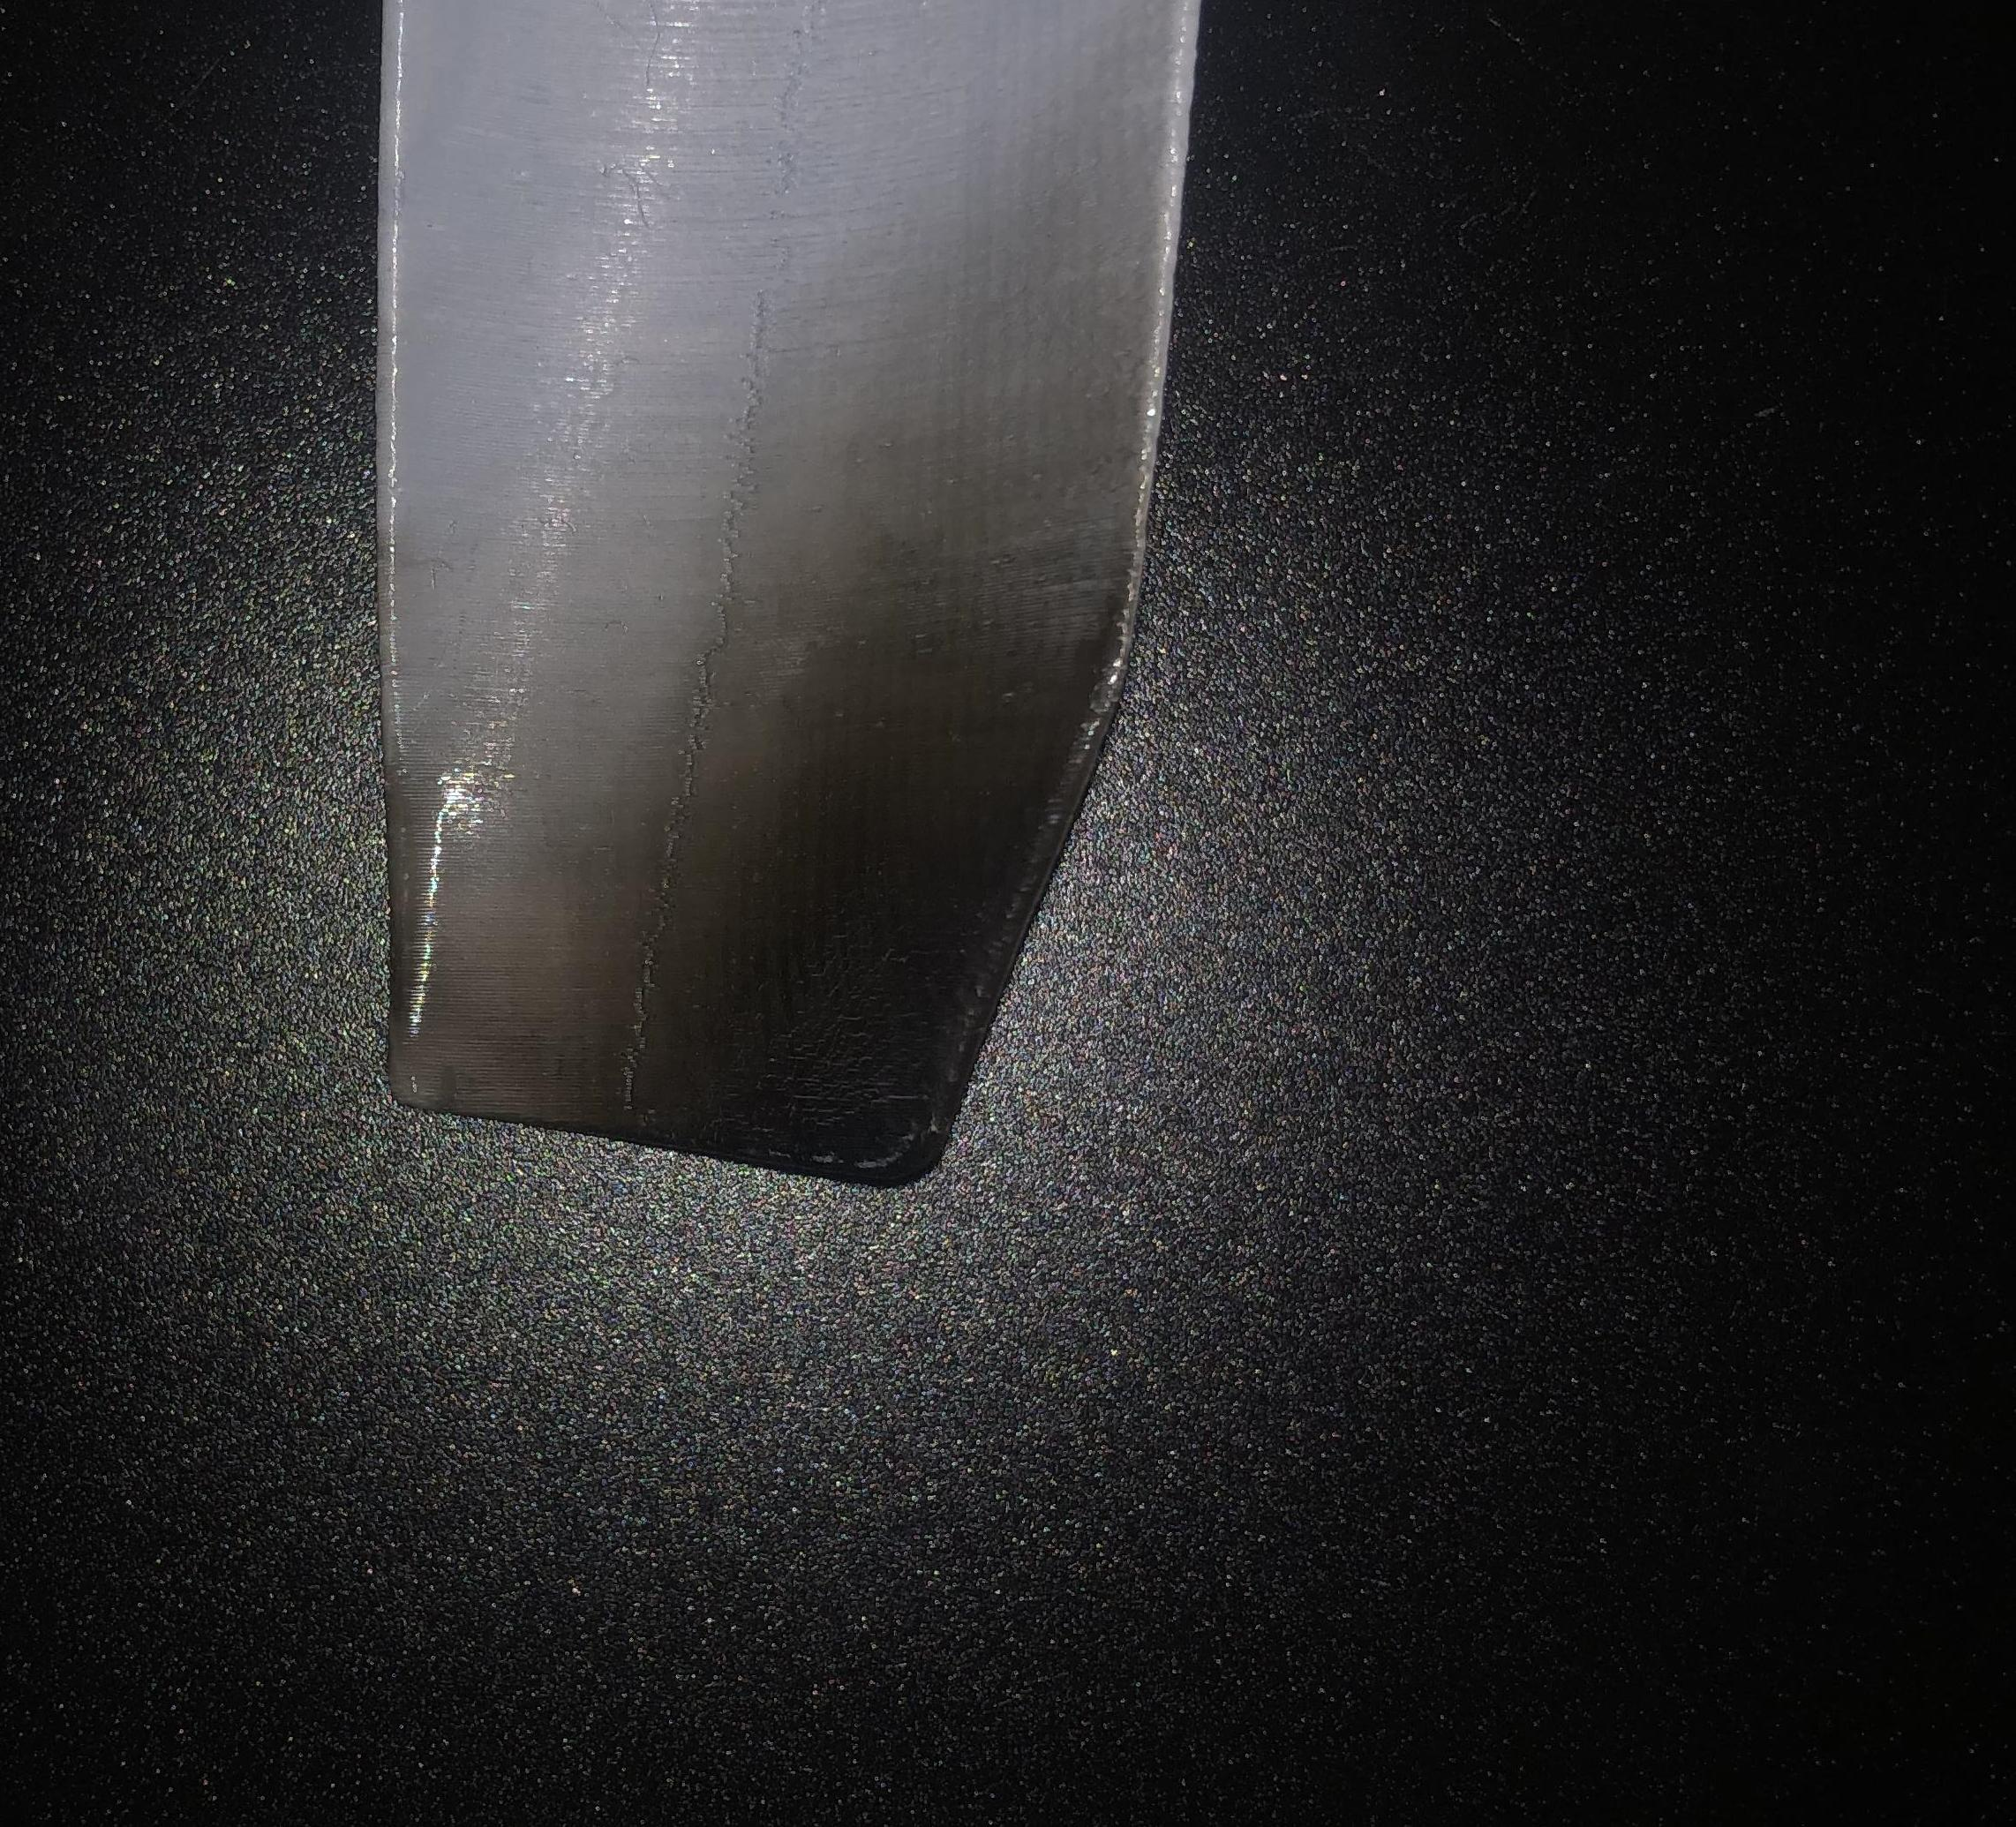ablation: (425, 801, 948, 1138)
